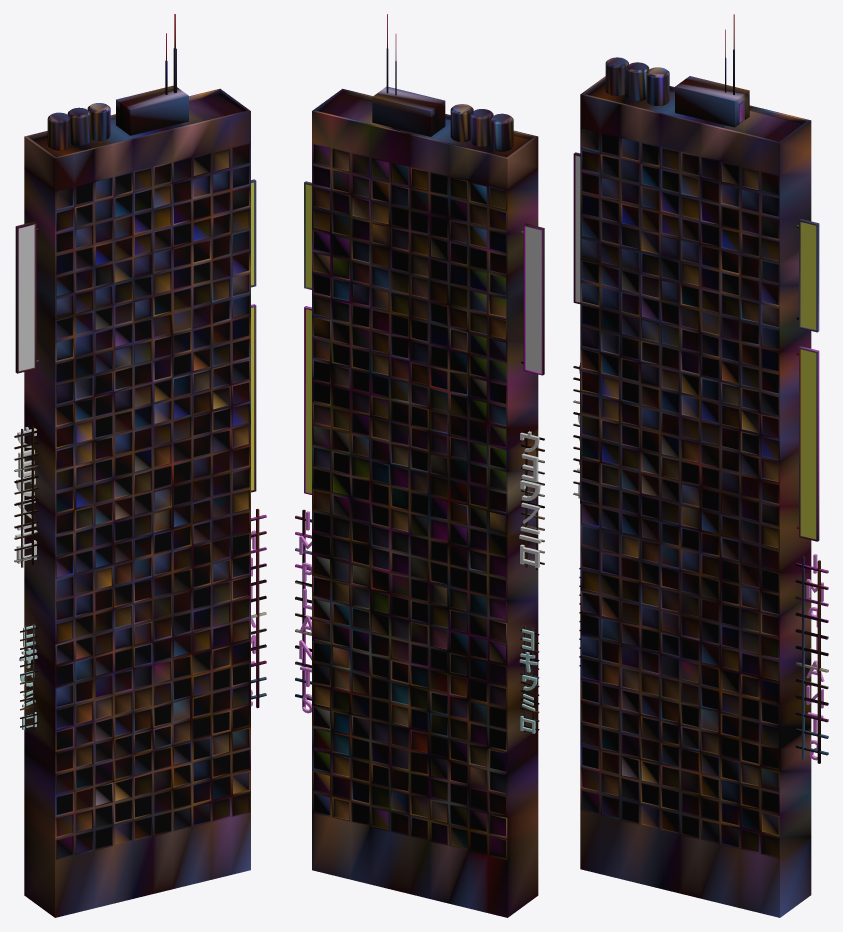
File: combined.glb
3 renders of one model, left to right at view 1: azimuth 30°, elevation 25°; view 2: azimuth 150°, elevation 25°; view 3: azimuth 330°, elevation 25°, orthographic. The views are drawn at different scales.
Visible parts, largest first — view 1: Building_14.006; view 2: Building_14.006; view 3: Building_14.006.
Part boxes in pixels (left/top/right/bottom): Building_14.006: left=14, top=14, right=266, bottom=917; Building_14.006: left=295, top=14, right=544, bottom=917; Building_14.006: left=573, top=14, right=828, bottom=917.
Size of the model in its own units: 42.14 by 138 by 8.95.
